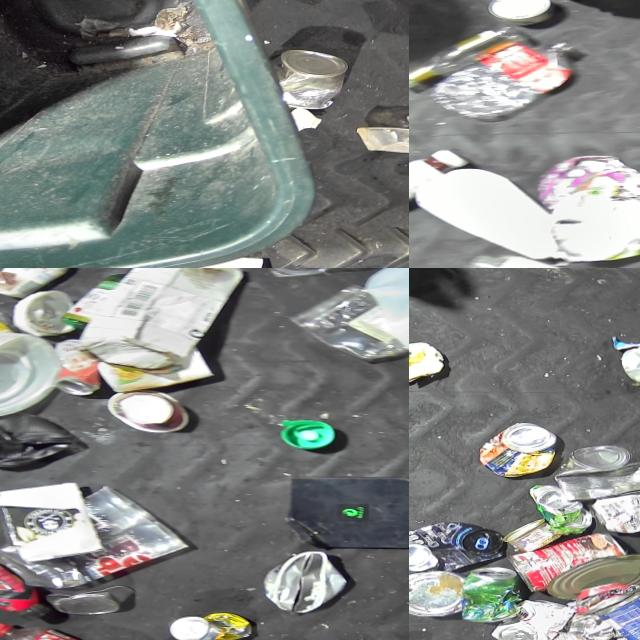can: (511, 531, 631, 593), (263, 546, 361, 611), (409, 520, 506, 573), (555, 443, 640, 502), (273, 49, 351, 109), (479, 422, 559, 477), (550, 552, 640, 599), (41, 583, 150, 618), (493, 597, 579, 640), (463, 564, 526, 620), (529, 484, 596, 533), (162, 609, 264, 640), (46, 353, 110, 397), (409, 570, 467, 617), (596, 582, 640, 640), (593, 483, 640, 533), (505, 517, 565, 552), (622, 342, 640, 384)
milk_jug: (352, 268, 409, 368)
plastic_bottle: (438, 39, 575, 120), (0, 623, 155, 640)
